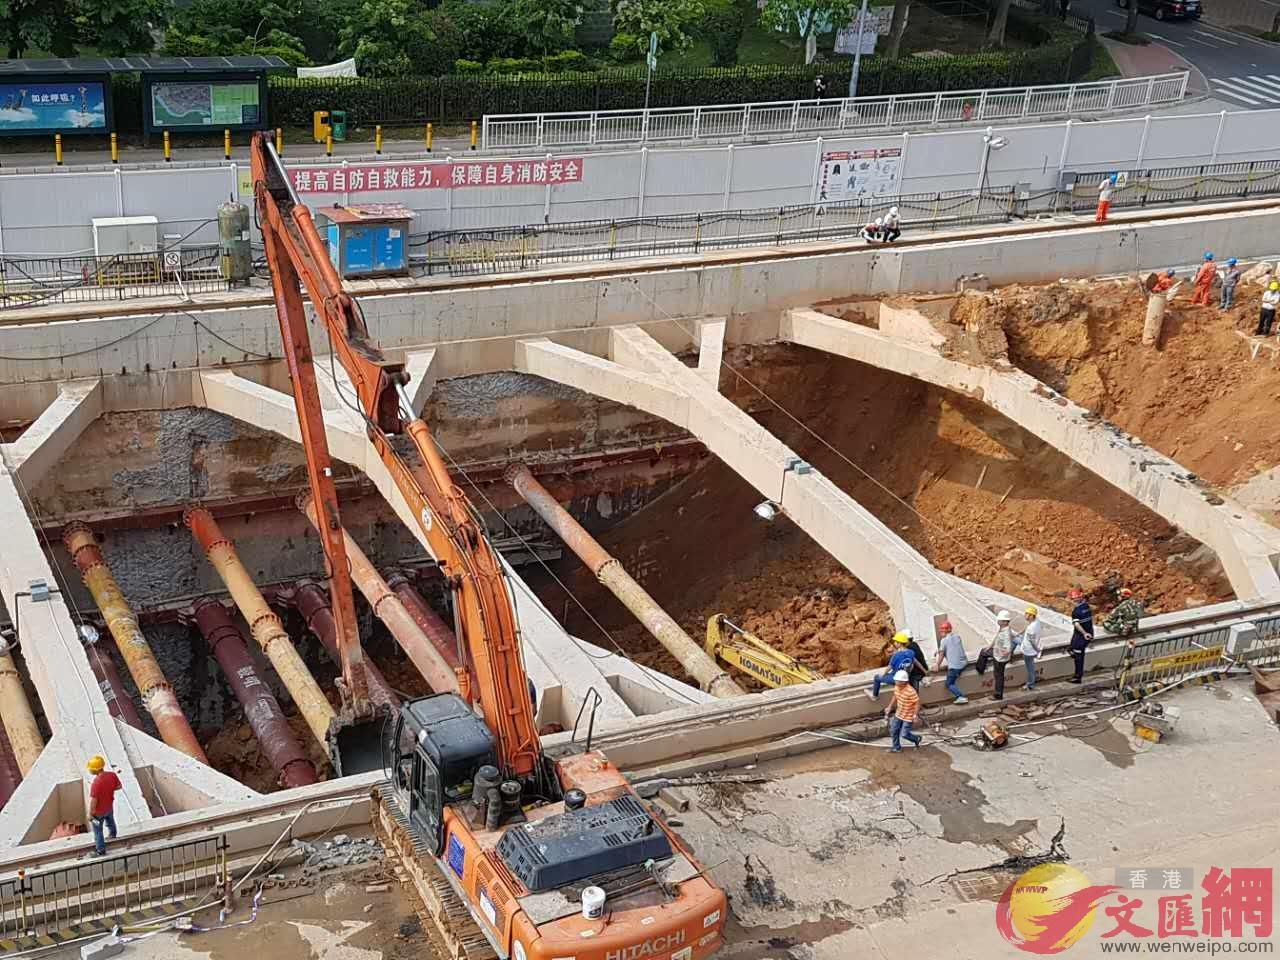blue: (1225, 255, 1237, 268), (1202, 249, 1213, 262), (1107, 173, 1118, 186)
red: (1067, 586, 1083, 605), (936, 620, 952, 637), (1116, 586, 1131, 603)
white: (892, 669, 909, 688), (995, 609, 1011, 627), (888, 204, 899, 218), (874, 216, 883, 228)
yellow: (84, 753, 105, 778), (891, 630, 907, 649), (1022, 604, 1037, 621), (1268, 280, 1280, 296)
